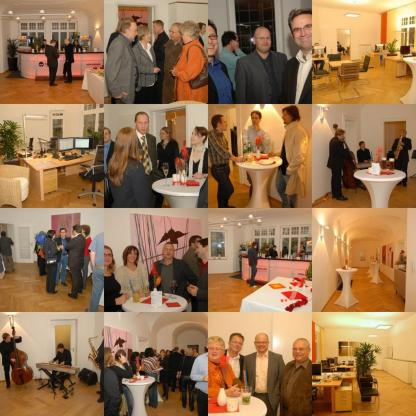face: (292, 18, 315, 49), (202, 30, 219, 56), (256, 32, 272, 51), (293, 344, 309, 361), (209, 343, 223, 360), (137, 118, 149, 134), (231, 339, 244, 353), (257, 338, 269, 353), (103, 250, 114, 266), (191, 132, 203, 145), (197, 245, 206, 259), (171, 29, 181, 41), (164, 247, 174, 259), (130, 28, 139, 40), (283, 113, 292, 125), (129, 251, 138, 263), (232, 38, 240, 50), (182, 33, 190, 44), (221, 120, 229, 131), (153, 25, 161, 35), (102, 132, 110, 142), (252, 116, 260, 126), (145, 33, 152, 43), (195, 240, 202, 250), (110, 352, 116, 363), (160, 132, 168, 140), (401, 132, 407, 138), (61, 231, 67, 237), (202, 28, 207, 35), (6, 337, 11, 343), (341, 133, 344, 140), (300, 247, 304, 252), (362, 144, 366, 149), (73, 230, 76, 236), (59, 349, 63, 353), (54, 234, 57, 239), (65, 41, 68, 45), (255, 245, 258, 249), (75, 42, 79, 45), (316, 46, 320, 49), (274, 248, 277, 251), (266, 248, 269, 251), (162, 352, 165, 355), (195, 355, 198, 358), (168, 353, 171, 356), (54, 44, 57, 47), (44, 42, 47, 45), (194, 351, 197, 354), (285, 249, 287, 252), (144, 356, 145, 359)
